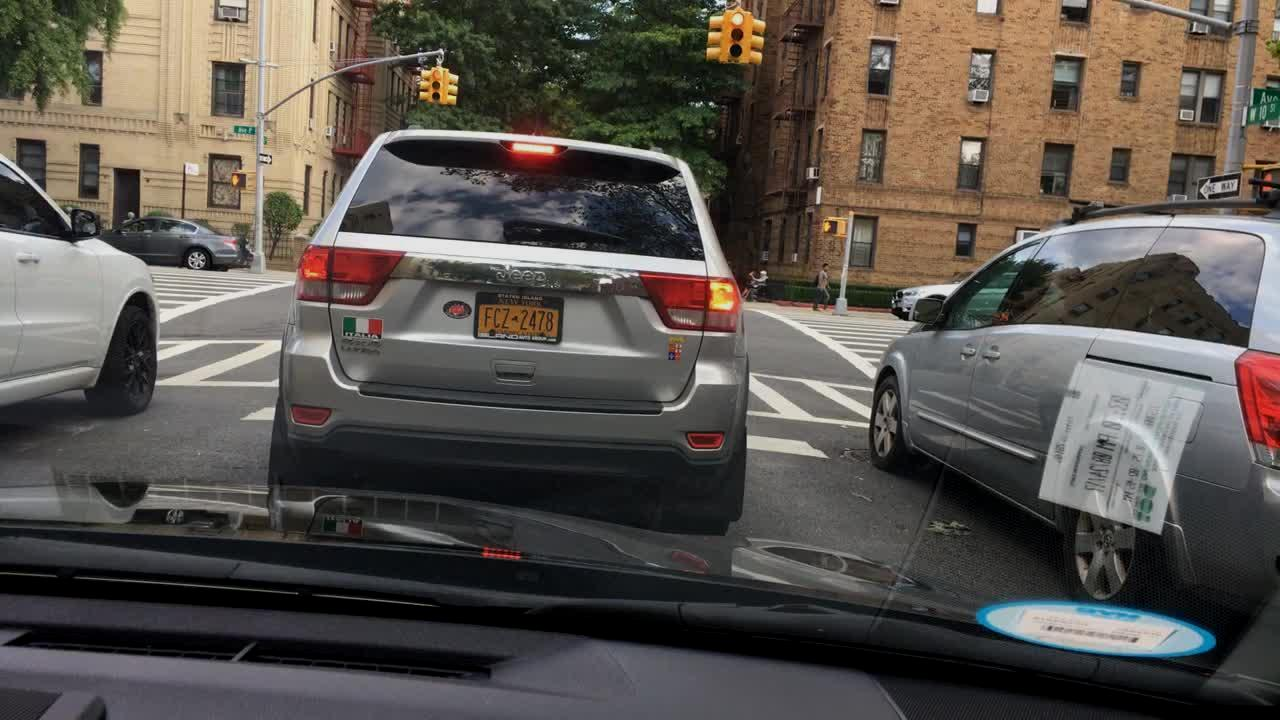jeep: (488, 262, 562, 287)
